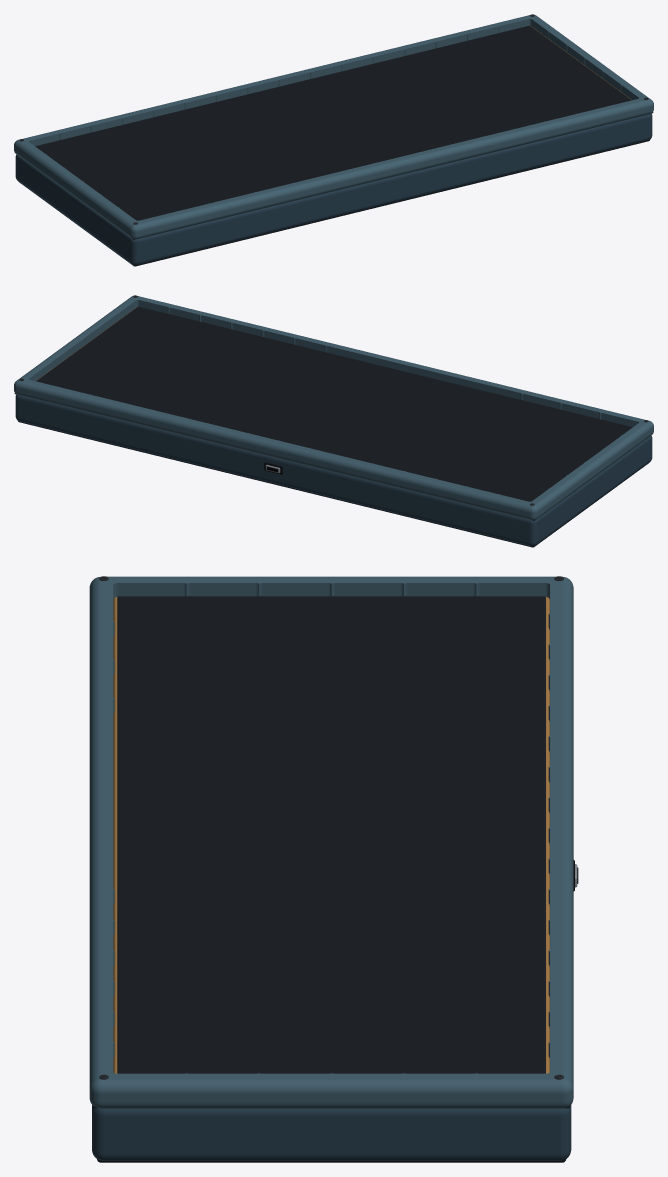
Rendered from ansi-81.glb.
The picture shows the model from 3 angles, top to bottom: view 1: azimuth 30°, elevation 25°; view 2: azimuth 150°, elevation 25°; view 3: azimuth 270°, elevation 25°; orthographic projection. The views are drawn at different scales.
Visible parts, largest first — view 1: KeybedShadow, TopFrame, CaseBody, BottomEdge; view 2: KeybedShadow, TopFrame, CaseBody, BottomEdge; view 3: KeybedShadow, TopFrame, CaseBody, Plate, BottomEdge.
Boxes of the visible parts, box(x1,y1,x2,y2) form: KeybedShadow: box(35, 25, 631, 220); TopFrame: box(14, 14, 653, 239); CaseBody: box(15, 113, 652, 265); BottomEdge: box(18, 140, 649, 266); KeybedShadow: box(36, 306, 632, 501); TopFrame: box(14, 295, 653, 520); CaseBody: box(15, 394, 652, 546); BottomEdge: box(18, 421, 649, 547); KeybedShadow: box(117, 596, 545, 1073); TopFrame: box(89, 576, 573, 1108); CaseBody: box(92, 1105, 571, 1160); Plate: box(113, 597, 549, 1073); BottomEdge: box(97, 1159, 566, 1162).
Size of the model in its own units: 0.3178 by 0.0263 by 0.1286.
